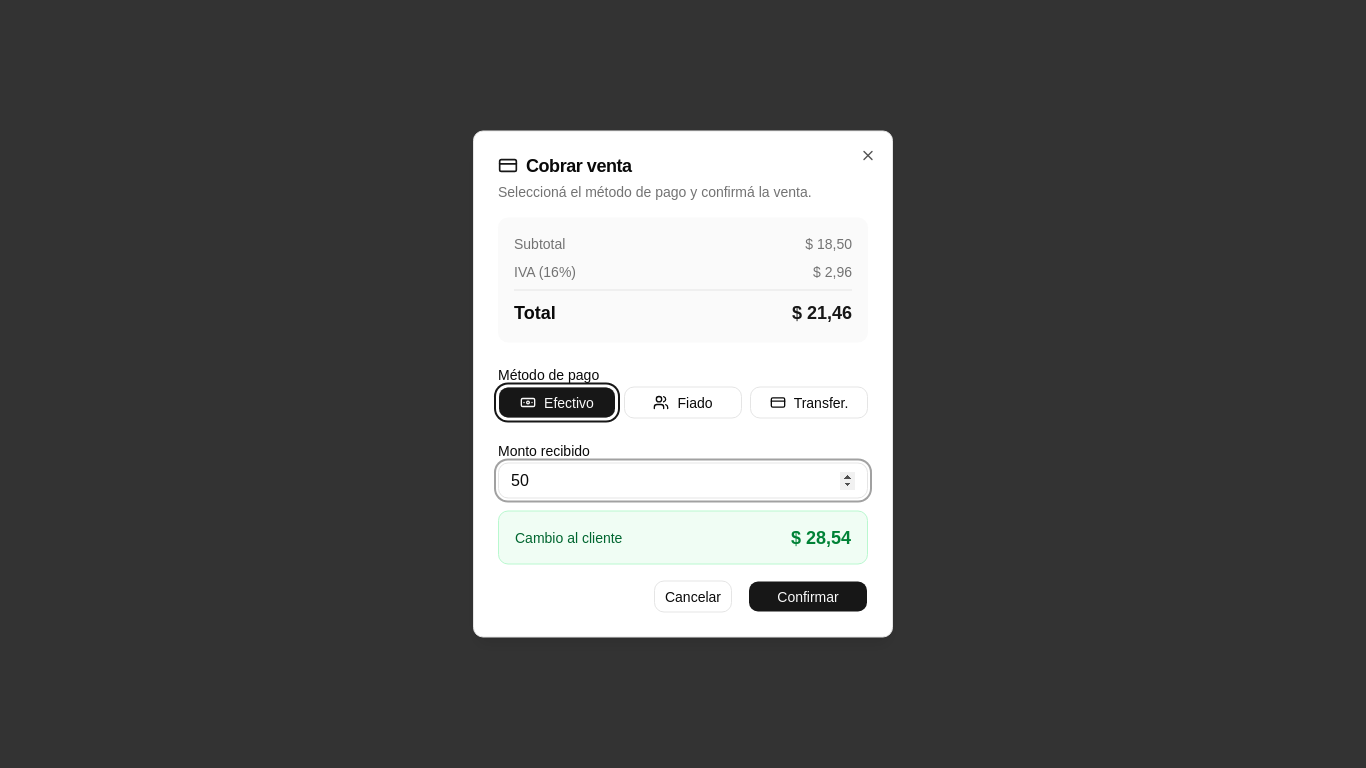
Test: PaymentDialog › muestra selector al seleccionar fiado
The image size is (1366, 768).
Click the button "Fiado": (683, 402) x1=624 y1=386 x2=742 y2=418
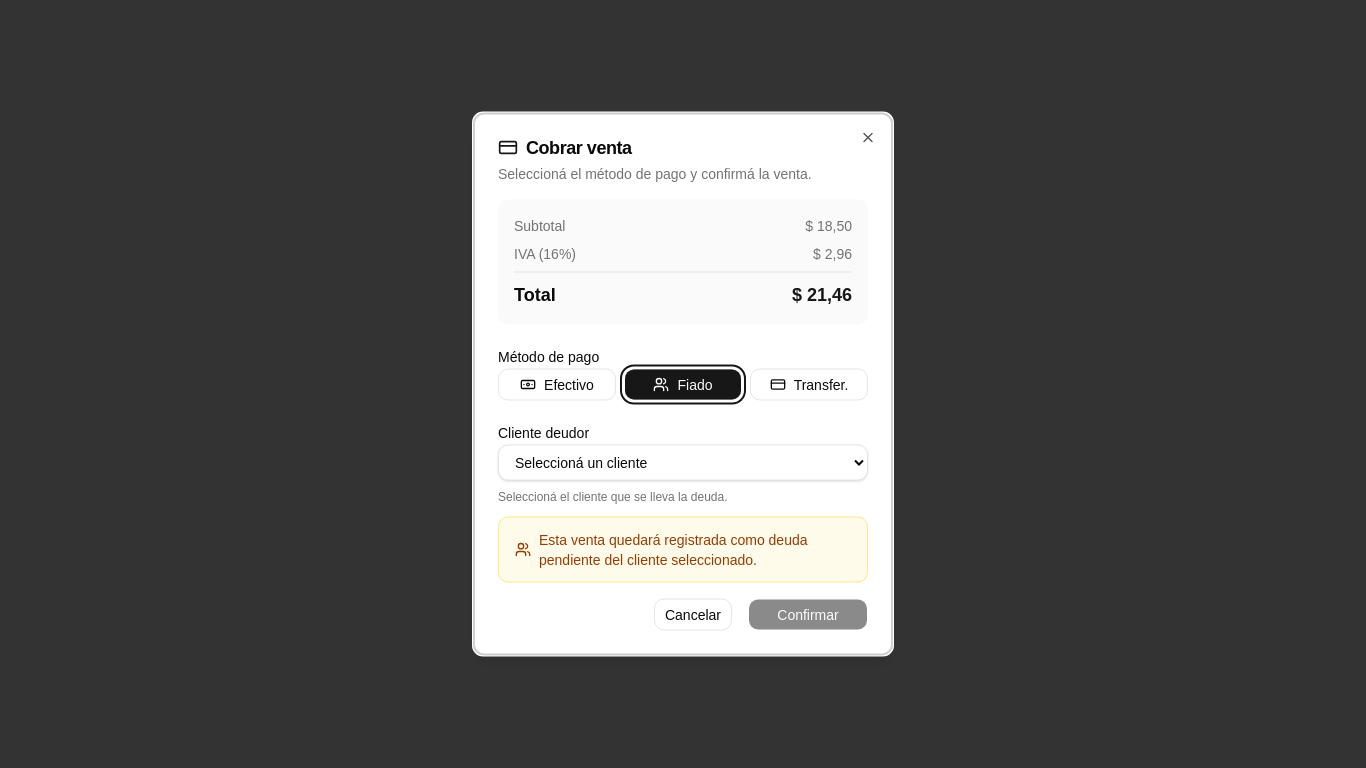
expect the dropdown labelled "Cliente deudor" is shown: met, box x1=498 y1=444 x2=868 y2=480
